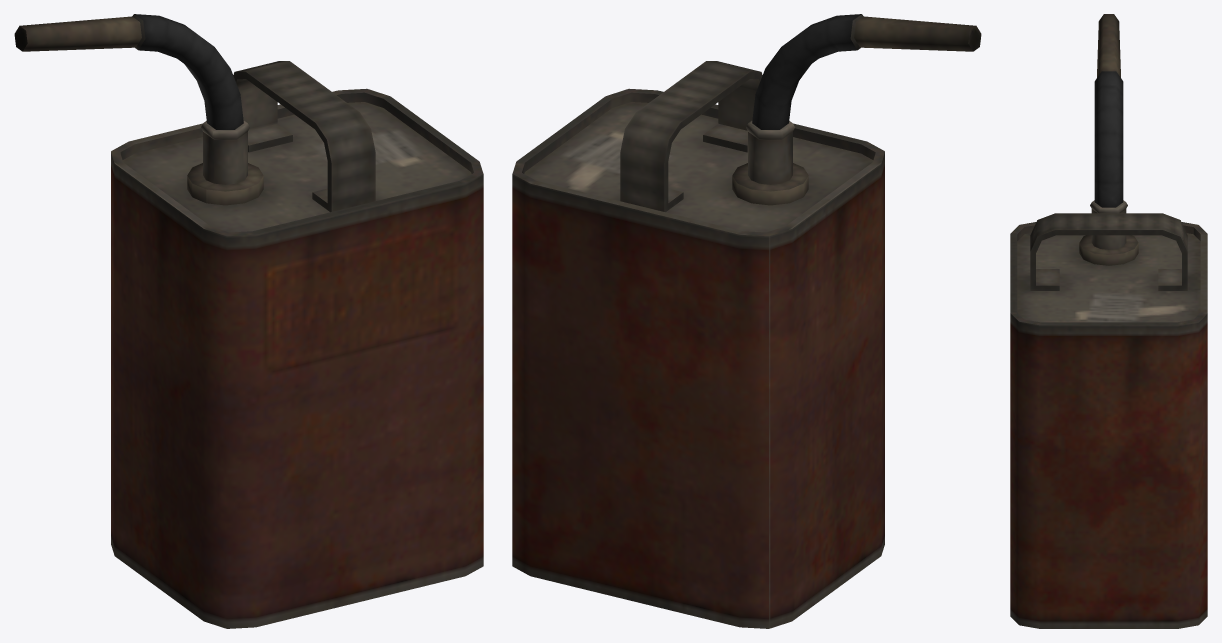
The model's file is jerrycan_mx_1.obj.
3 views of the same model, side by side, from view 1: azimuth 30°, elevation 25°; view 2: azimuth 150°, elevation 25°; view 3: azimuth 270°, elevation 25° (orthographic). The views are drawn at different scales.
Parts seen in each view (by area): view 1: jerrycan_mx_1; view 2: jerrycan_mx_1; view 3: jerrycan_mx_1.
Part boxes in pixels (x1,y1,x2,y2): jerrycan_mx_1: (14, 14, 483, 628); jerrycan_mx_1: (512, 14, 981, 628); jerrycan_mx_1: (1010, 14, 1207, 628).
Size of the model in its own units: 0.4522 by 0.6173 by 0.24.
